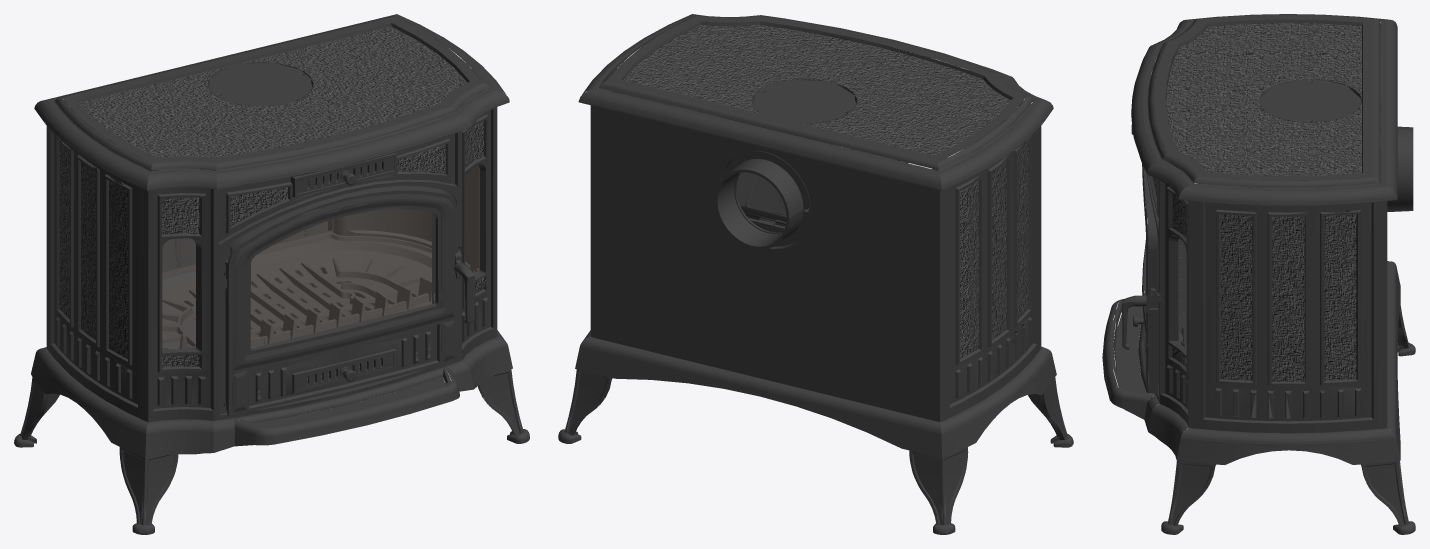
Rendered from kamin.glb.
3 views of the same model, side by side, from view 1: azimuth 30°, elevation 25°; view 2: azimuth 150°, elevation 25°; view 3: azimuth 270°, elevation 25° (orthographic). The views are drawn at different scales.
Visible parts, largest first — view 1: Koza K9-C4D, Group; view 2: Koza K9-C4D, Group; view 3: Koza K9-C4D, Group.
Part boxes in pixels (x1,y1,x2,y2): Koza K9-C4D: (14, 14, 529, 534); Group: (79, 26, 466, 157); Koza K9-C4D: (558, 14, 1073, 534); Group: (624, 25, 1010, 155); Koza K9-C4D: (1102, 14, 1415, 534); Group: (1166, 23, 1361, 176).
Bounding box in the file's own units: 0.7747 × 0.6595 × 0.5454.
Materials: 6 (2 with a texture image).
